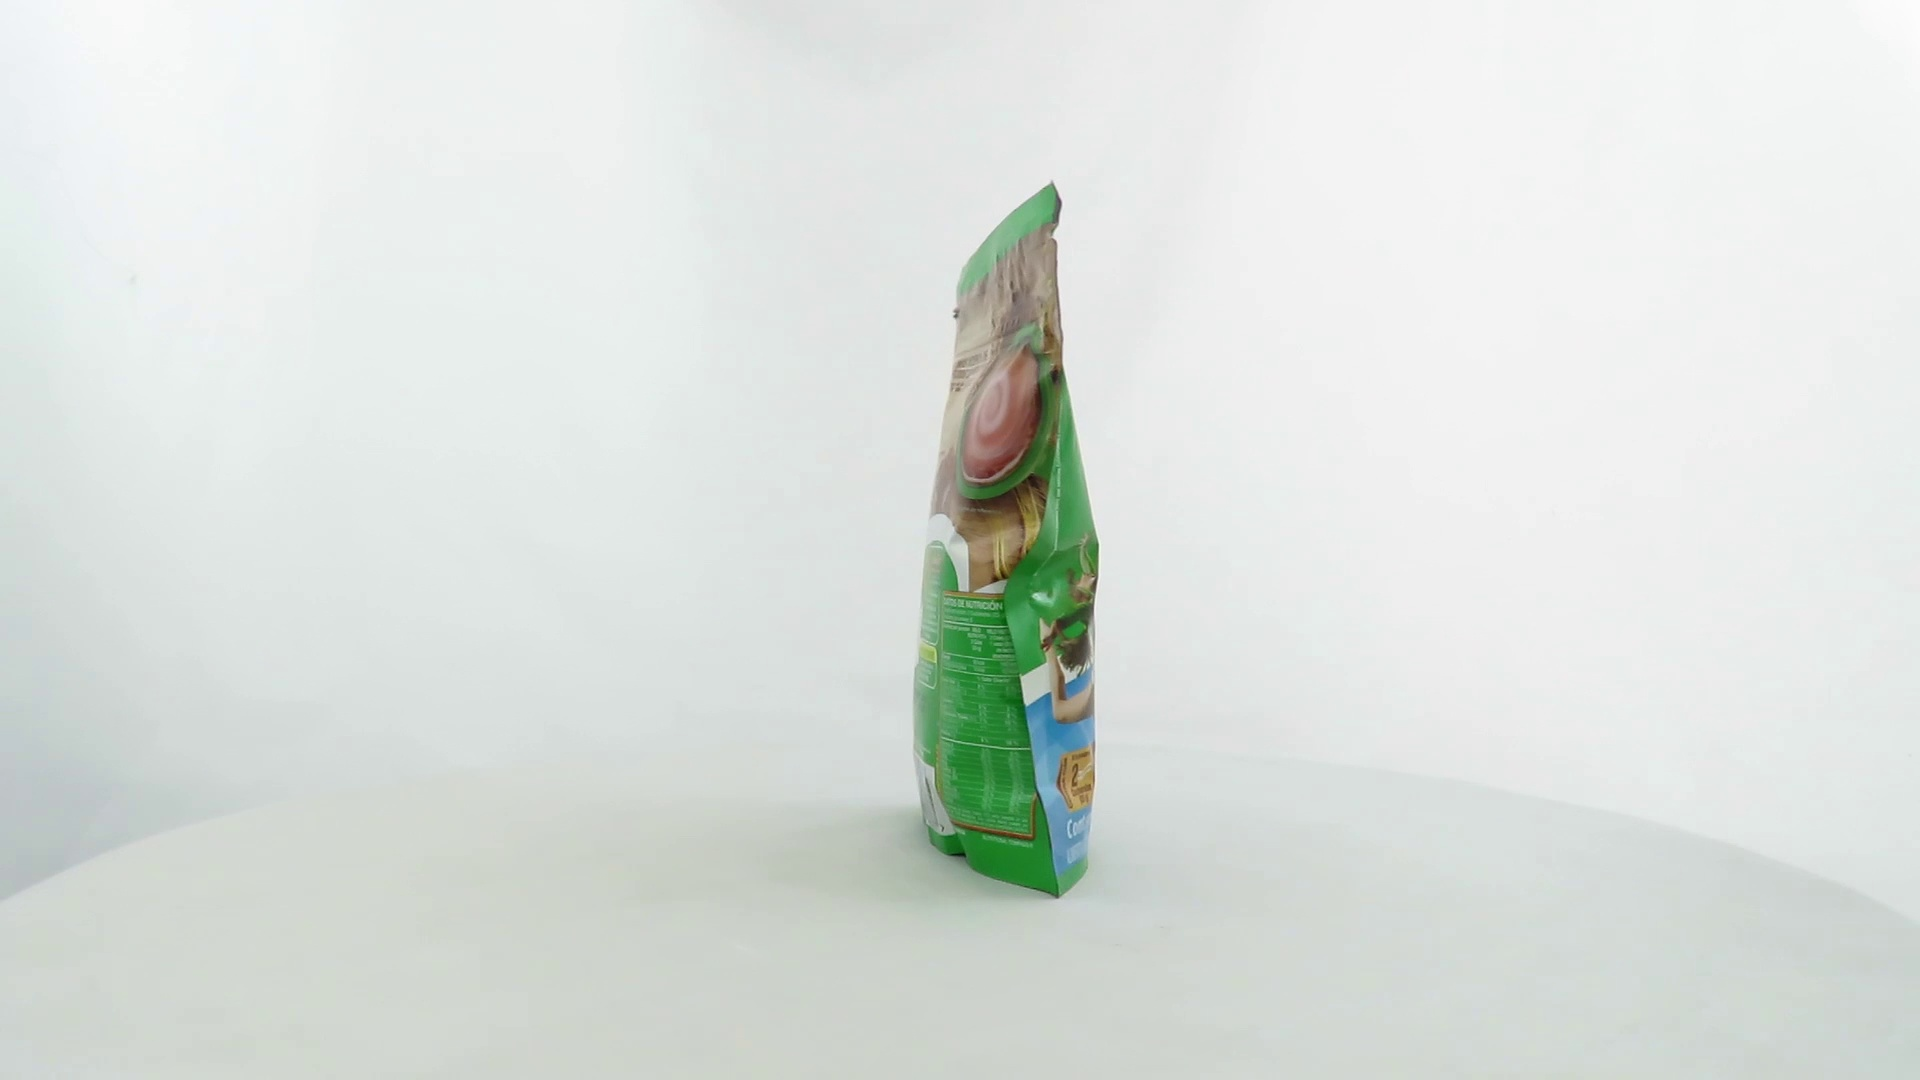COL0170205DYP20000: (907, 175, 1105, 905)
